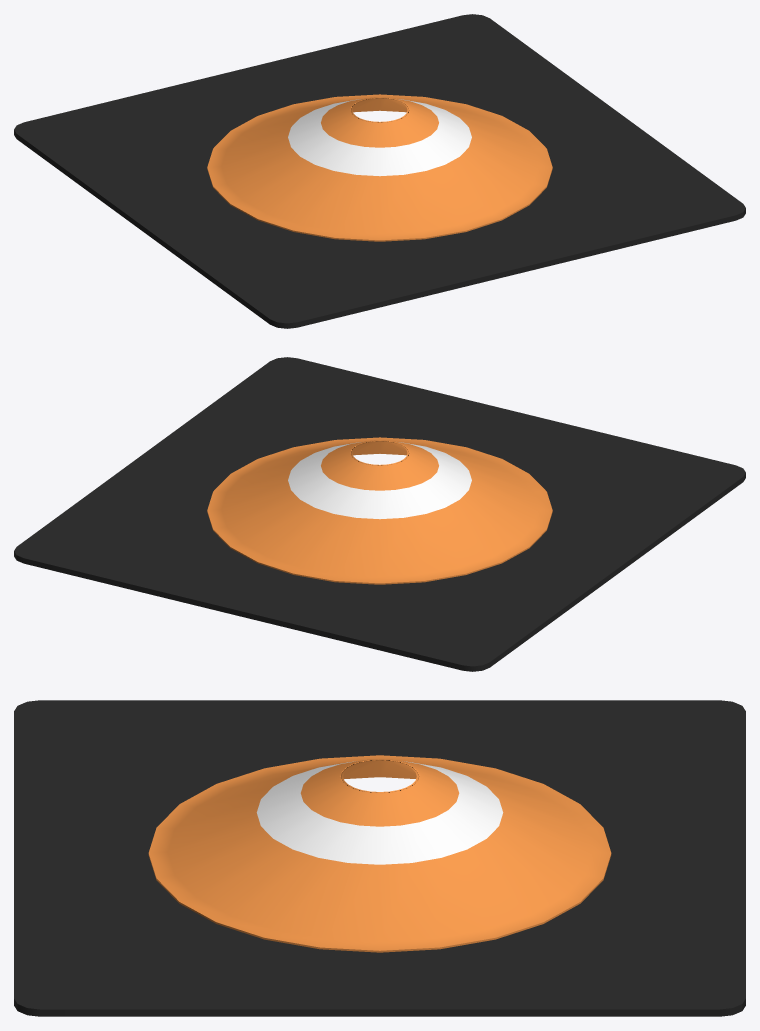
Rendered from Squished Cone.fbx.
The picture shows the model from 3 angles, top to bottom: view 1: azimuth 30°, elevation 25°; view 2: azimuth 150°, elevation 25°; view 3: azimuth 270°, elevation 25°; orthographic projection. The views are drawn at different scales.
Parts seen in each view (by area): view 1: Cone_Base_Piece, Cone_Orange_Spot, Cone_White_Spot; view 2: Cone_Base_Piece, Cone_Orange_Spot, Cone_White_Spot; view 3: Cone_Base_Piece, Cone_Orange_Spot, Cone_White_Spot.
Boxes of the visible parts, bbox=[...] form: Cone_Base_Piece: bbox=[14, 14, 745, 328]; Cone_Orange_Spot: bbox=[207, 94, 552, 240]; Cone_White_Spot: bbox=[288, 99, 471, 176]; Cone_Base_Piece: bbox=[14, 357, 745, 671]; Cone_Orange_Spot: bbox=[207, 437, 552, 583]; Cone_White_Spot: bbox=[288, 442, 471, 519]; Cone_Base_Piece: bbox=[14, 700, 745, 1016]; Cone_Orange_Spot: bbox=[148, 755, 611, 950]; Cone_White_Spot: bbox=[256, 761, 503, 864].
Size of the model in its own units: 0.5055 by 0.0653 by 0.5055.
